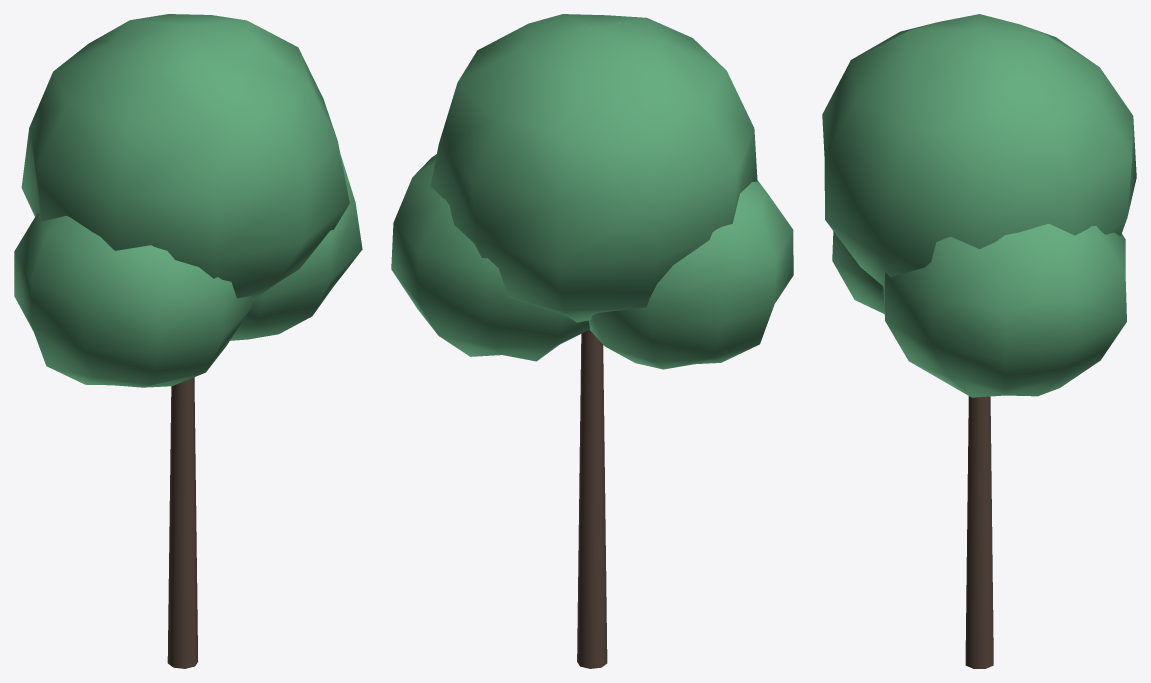
Rendered from SM_Tree_A.obj.
3 renders of one model, left to right at view 1: azimuth 30°, elevation 25°; view 2: azimuth 150°, elevation 25°; view 3: azimuth 270°, elevation 25°, orthographic.
Visible parts, largest first — view 1: Tree; view 2: Tree; view 3: Tree.
Part boxes in pixels (x1,y1,x2,y2): Tree: (14, 14, 362, 668); Tree: (391, 14, 793, 668); Tree: (822, 14, 1136, 668).
Size of the model in its own units: 3.12 by 5.5 by 2.47.
